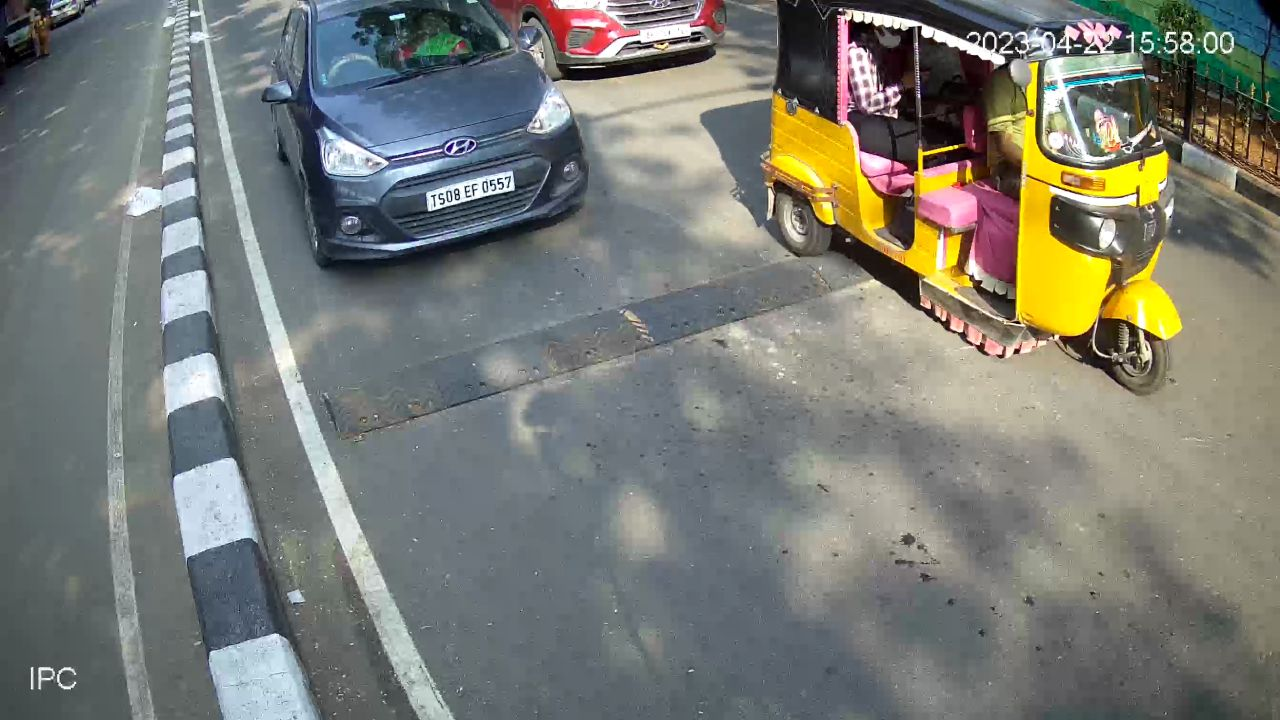license_plate: (421, 162, 525, 221)
